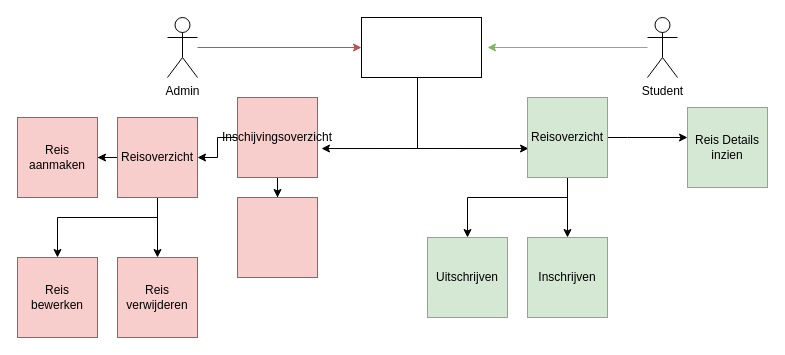
The diagram is 785 pixels wide and 355 high, and some of its shapes have lost their labels. The box of each missing label's shape, as (x1, y1, x2, y2) in pixels:
Inloggen: (360, 16, 482, 78)
Inschrijving Details: (236, 196, 318, 278)
